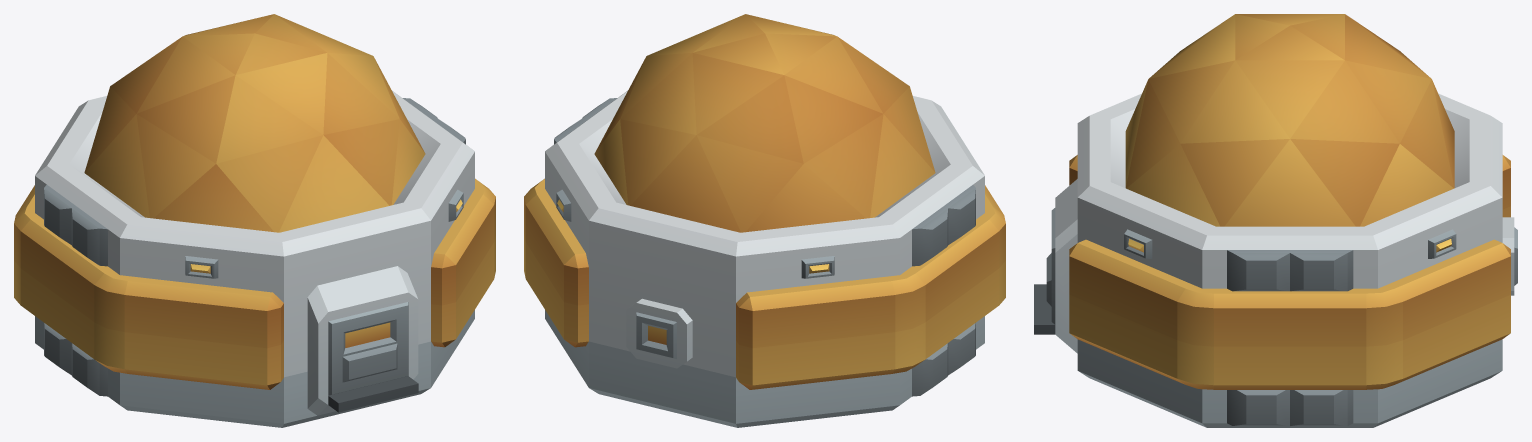
File: basemodule_e.glb
3 renders of one model, left to right at view 1: azimuth 30°, elevation 25°; view 2: azimuth 150°, elevation 25°; view 3: azimuth 270°, elevation 25°, orthographic. The views are drawn at different scales.
Parts seen in each view (by area): view 1: basemodule_E; view 2: basemodule_E; view 3: basemodule_E.
Part boxes in pixels (x1,y1,x2,y2): basemodule_E: (14,14,495,427); basemodule_E: (524,14,1005,427); basemodule_E: (1034,14,1517,427).
Bounding box in the file's own units: 6.67 × 4.95 × 6.83.
1 material, 1 textured.
